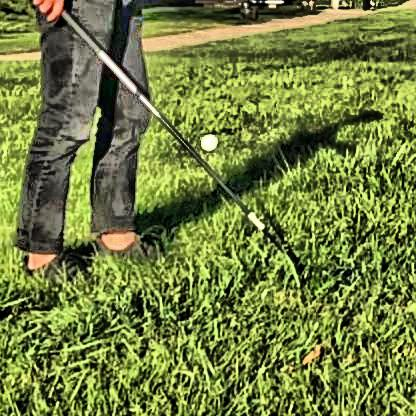golfball: (197, 129, 216, 150)
